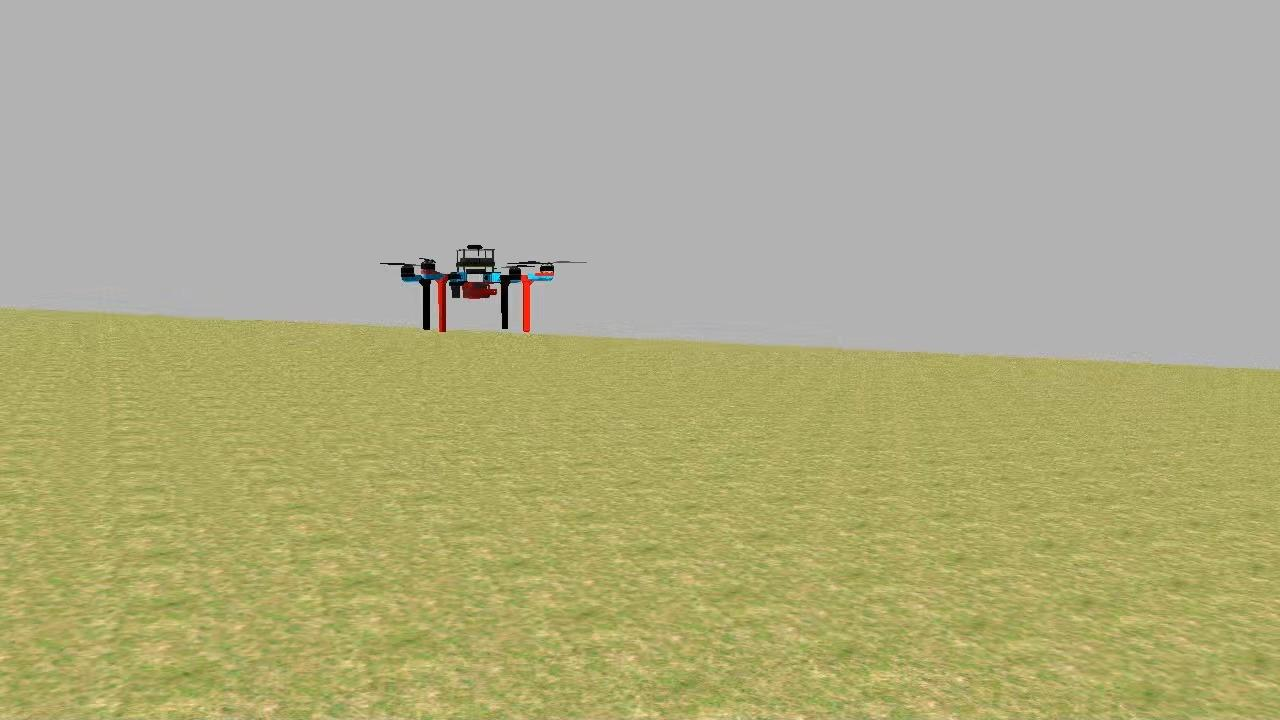UAV: (392, 238, 562, 338)
